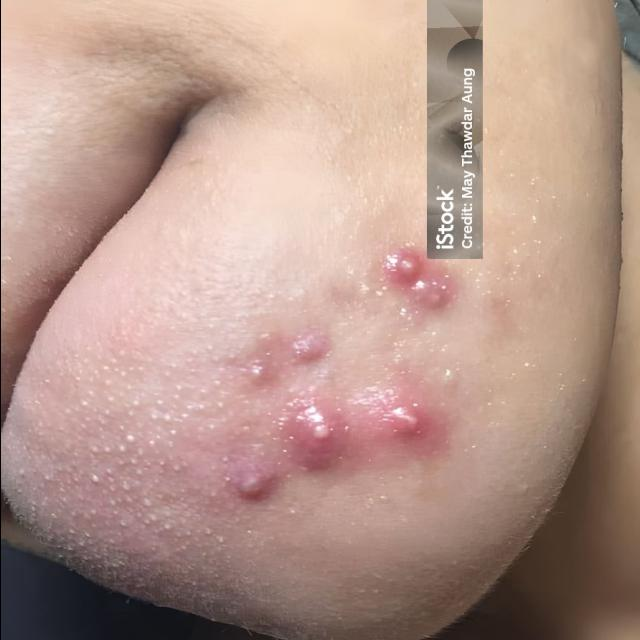papule: (219, 321, 339, 399)
pustule: (243, 389, 357, 484), (344, 244, 460, 329), (369, 383, 450, 459), (220, 463, 275, 522)
whitehead: (11, 336, 236, 591), (486, 154, 572, 303)
